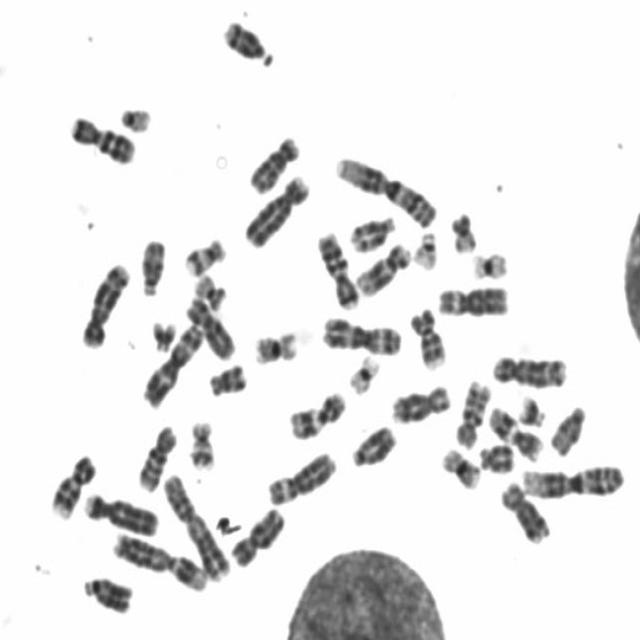A1: (331, 146, 441, 230), (518, 454, 629, 500)
A2: (159, 465, 235, 582), (109, 524, 211, 593)
A3: (138, 315, 208, 409), (318, 308, 406, 356)
B4: (240, 166, 314, 250), (79, 484, 163, 537)
B5: (77, 253, 134, 349), (488, 347, 572, 389)
C10: (133, 416, 182, 494), (450, 372, 495, 449)
C11: (484, 398, 546, 462), (284, 382, 350, 441)
C12: (352, 233, 414, 298), (246, 130, 306, 197)
C6: (262, 442, 340, 507), (432, 277, 514, 318)
C7: (65, 105, 140, 166), (313, 224, 365, 311)
C8: (496, 472, 554, 544), (387, 375, 455, 425)
C9: (46, 446, 101, 519), (407, 300, 451, 370)
D13: (79, 567, 137, 616), (348, 416, 401, 468)
D14: (218, 10, 278, 68), (346, 206, 399, 253)
D15: (545, 396, 591, 458), (136, 230, 170, 298)
E16: (437, 439, 486, 491), (249, 322, 303, 367)
E17: (180, 228, 230, 278), (185, 412, 220, 471)
E18: (204, 353, 251, 398), (475, 436, 519, 474)
F19: (344, 347, 384, 396), (467, 242, 513, 280)
F20: (190, 265, 231, 311), (446, 203, 482, 254)
G21: (146, 311, 182, 353), (514, 387, 550, 428)
G22: (409, 222, 442, 271), (116, 98, 156, 134)
X: (227, 498, 290, 569), (181, 289, 240, 362)
